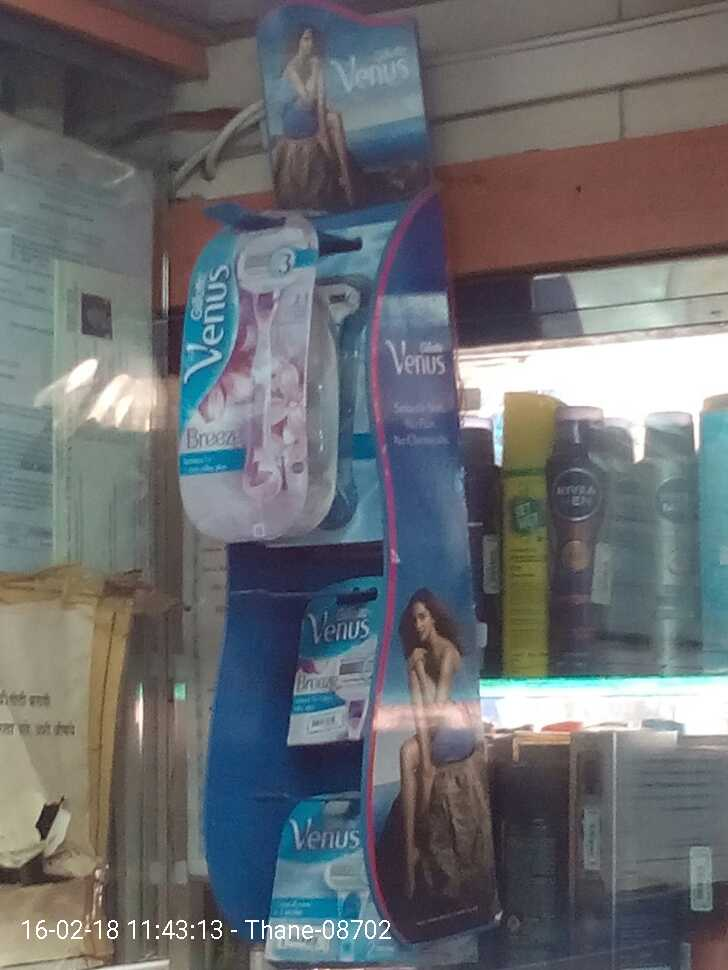beauty: (177, 213, 327, 528), (283, 580, 390, 748), (260, 793, 365, 963)
